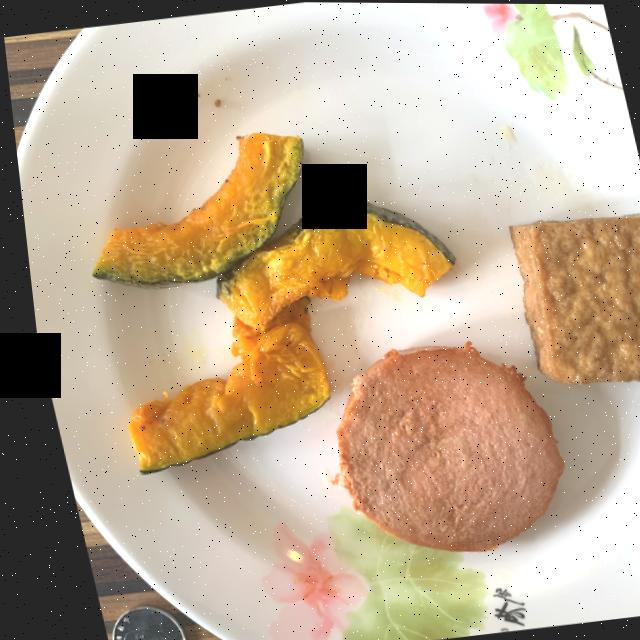Spam: (324, 341, 553, 551)
coin: (97, 606, 171, 640)
egg tofu: (504, 212, 640, 383)
pumpkin: (87, 132, 449, 472)
